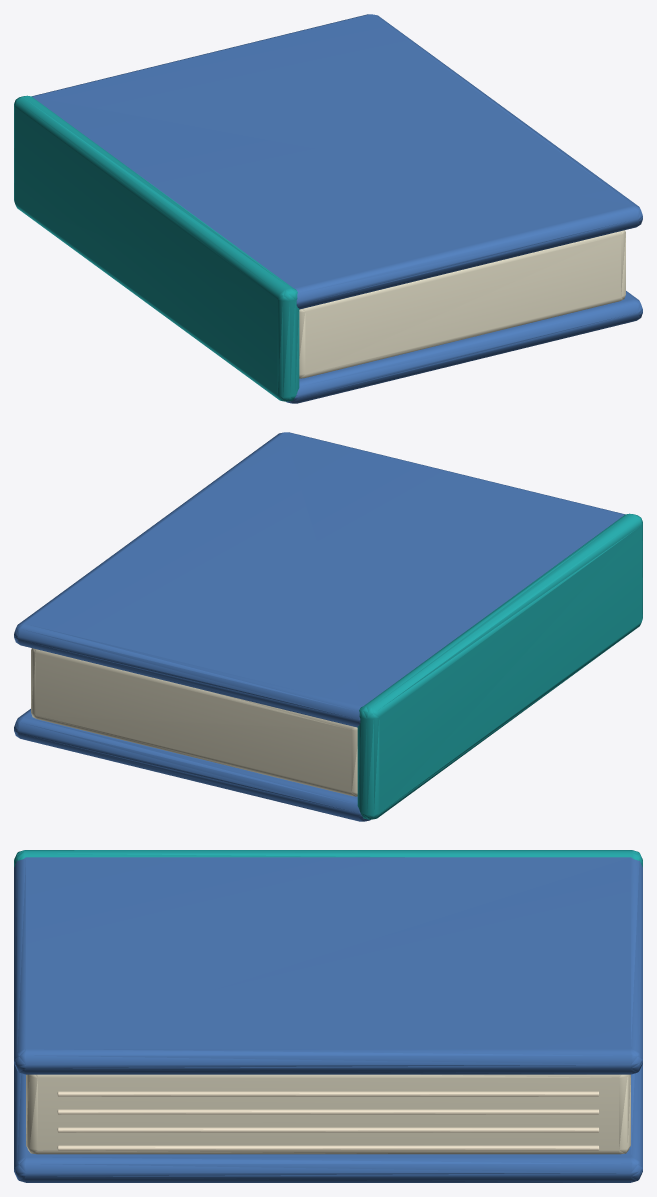
Rendered from Book.fbx.
The picture shows the model from 3 angles, top to bottom: view 1: azimuth 30°, elevation 25°; view 2: azimuth 150°, elevation 25°; view 3: azimuth 270°, elevation 25°; orthographic projection. The views are drawn at different scales.
Parts seen in each view (by area): view 1: GEO-Body; view 2: GEO-Body; view 3: GEO-Body.
Part boxes in pixels (x1,y1,x2,y2): GEO-Body: [14, 14, 642, 403]; GEO-Body: [14, 432, 642, 821]; GEO-Body: [14, 850, 642, 1182].
Size of the model in its own units: 0.6125 by 0.1875 by 0.79.
